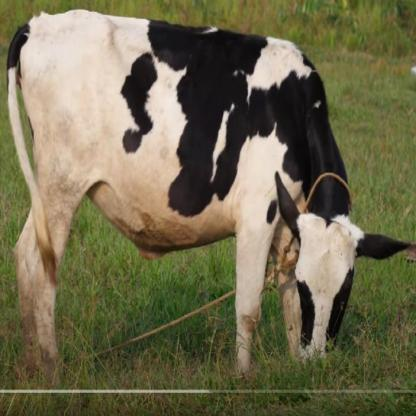cow: (6, 8, 416, 377)
